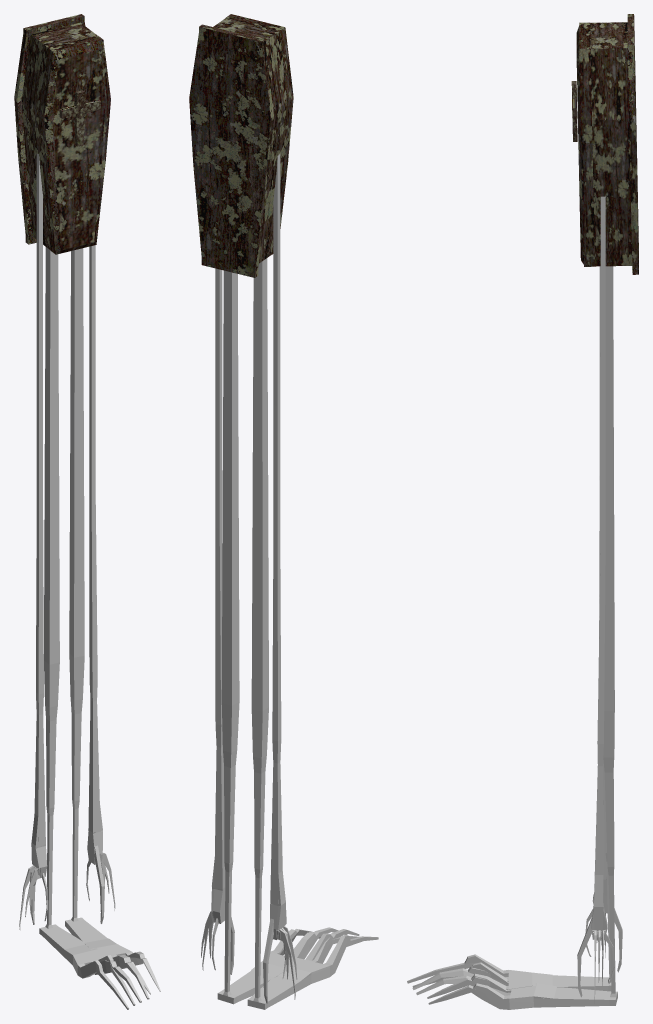
Rendered from limbo_coffin1fbx.fbx.
3 renders of one model, left to right at view 1: azimuth 30°, elevation 25°; view 2: azimuth 150°, elevation 25°; view 3: azimuth 270°, elevation 25°, orthographic. The views are drawn at different scales.
Parts seen in each view (by area): view 1: Cube.003; view 2: Cube.003; view 3: Cube.003.
Part boxes in pixels (x1,y1,x2,y2): Cube.003: [14, 14, 160, 1009]; Cube.003: [189, 14, 378, 1009]; Cube.003: [407, 14, 638, 1009].
Size of the model in its own units: 736 by 7000 by 1517.
